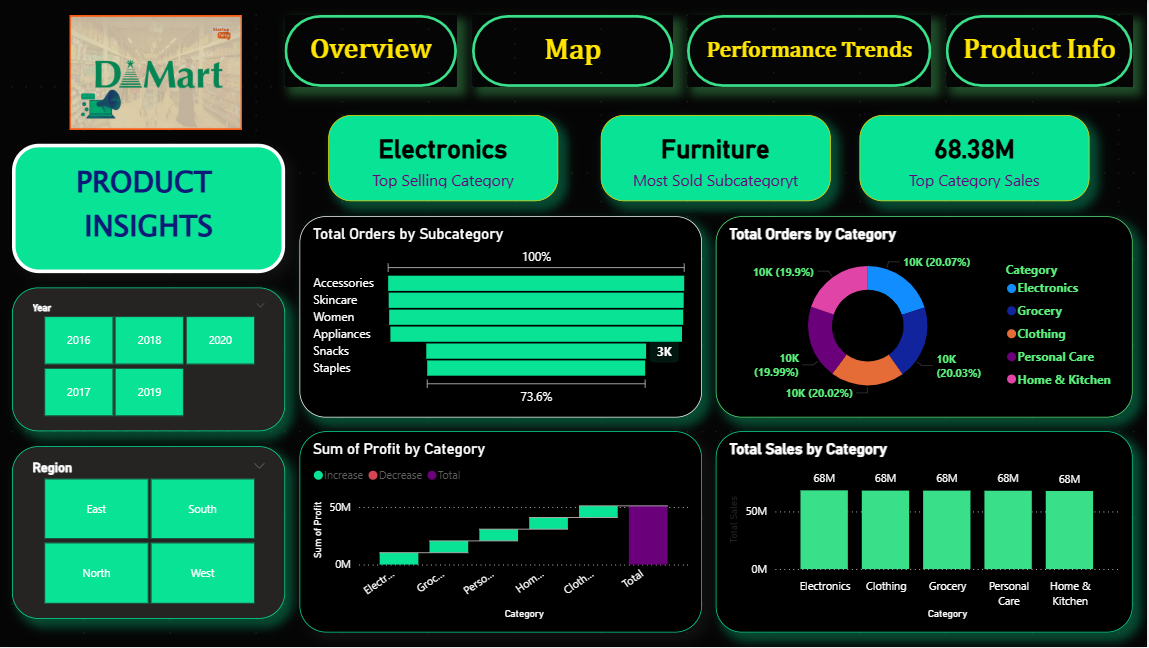

This screenshot's page, from the dashboard's own definition file:
{"tool":"powerbi","page":{"name":"Product Information","canvas":[1280,720],"ordinal":4},"visuals":[{"type":"funnel","fields":{"Y":["dmart_powerbi_dataset_50k.Total Orders"],"Category":["dmart_powerbi_dataset_50k.Subcategory"]},"box":[336,240,448,224],"z":0},{"type":"slicer","fields":{"Values":["dmart_powerbi_dataset_50k.Order_Date.Variation.Date Hierarchy.Year"]},"box":[16,320,304,160],"z":1000},{"type":"donutChart","fields":{"Y":["dmart_powerbi_dataset_50k.Total Orders"],"Category":["dmart_powerbi_dataset_50k.Category"]},"box":[800,240,464,224],"z":2000},{"type":"card","fields":{"Values":["dmart_powerbi_dataset_50k.Most Sold Product"]},"box":[368,128,256,96],"z":3000},{"type":"clusteredColumnChart","fields":{"Category":["dmart_powerbi_dataset_50k.Category"],"Y":["dmart_powerbi_dataset_50k.Total Sales"]},"box":[800,480,464,224],"z":4000},{"type":"waterfallChart","fields":{"Y":["Sum(dmart_powerbi_dataset_50k.Profit)"],"Category":["dmart_powerbi_dataset_50k.Category"]},"box":[336,480,448,224],"z":5000},{"type":"card","fields":{"Values":["dmart_powerbi_dataset_50k.Most Sold Subcategoryt"]},"box":[672,128,256,96],"z":6000},{"type":"card","fields":{"Values":["dmart_powerbi_dataset_50k.Top Category Sales"]},"box":[960,128,256,96],"z":7000},{"type":"slicer","fields":{"Values":["dmart_powerbi_dataset_50k.Region"]},"box":[16,496,304,192],"z":8000},{"type":"actionButton","box":[528,16,224,80],"z":9000},{"type":"actionButton","box":[768,16,272,80],"z":10000},{"type":"actionButton","box":[1056,16,208,80],"z":11000},{"type":"actionButton","box":[320,16,192,80],"z":12000},{"type":"textbox","box":[16,160,304,144],"z":13000},{"type":"image","box":[16,16,320,128],"z":14000}]}

Visuals, with their boxes in screenshot pixels (x1, y1, x2, y2), scaled from the page's 1280x720 canvas onto the 1149x648 screenshot:
funnel - dmart_powerbi_dataset_50k.Total Orders x dmart_powerbi_dataset_50k.Subcategory: [left=302, top=216, right=704, bottom=418]
slicer - dmart_powerbi_dataset_50k.Order_Date.Variation.Date Hierarchy.Year: [left=14, top=288, right=287, bottom=432]
donutChart - dmart_powerbi_dataset_50k.Total Orders x dmart_powerbi_dataset_50k.Category: [left=718, top=216, right=1135, bottom=418]
card - dmart_powerbi_dataset_50k.Most Sold Product: [left=330, top=115, right=560, bottom=202]
clusteredColumnChart - dmart_powerbi_dataset_50k.Category x dmart_powerbi_dataset_50k.Total Sales: [left=718, top=432, right=1135, bottom=634]
waterfallChart - Sum(dmart_powerbi_dataset_50k.Profit) x dmart_powerbi_dataset_50k.Category: [left=302, top=432, right=704, bottom=634]
card - dmart_powerbi_dataset_50k.Most Sold Subcategoryt: [left=603, top=115, right=833, bottom=202]
card - dmart_powerbi_dataset_50k.Top Category Sales: [left=862, top=115, right=1092, bottom=202]
slicer - dmart_powerbi_dataset_50k.Region: [left=14, top=446, right=287, bottom=619]
actionButton: [left=474, top=14, right=675, bottom=86]
actionButton: [left=689, top=14, right=934, bottom=86]
actionButton: [left=948, top=14, right=1135, bottom=86]
actionButton: [left=287, top=14, right=460, bottom=86]
textbox: [left=14, top=144, right=287, bottom=274]
image: [left=14, top=14, right=302, bottom=130]
